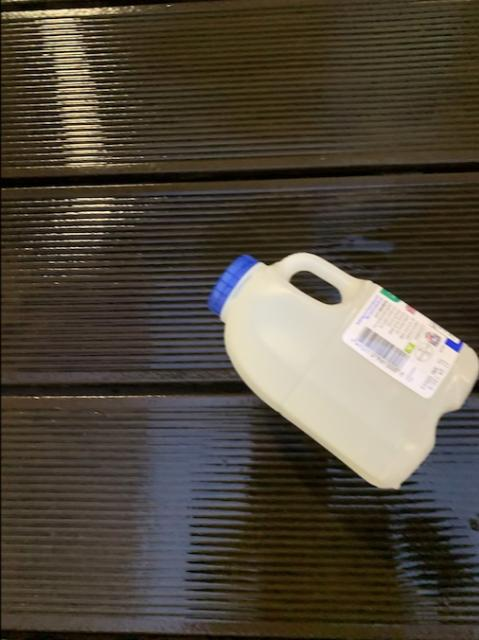plastic: (209, 252, 479, 487)
